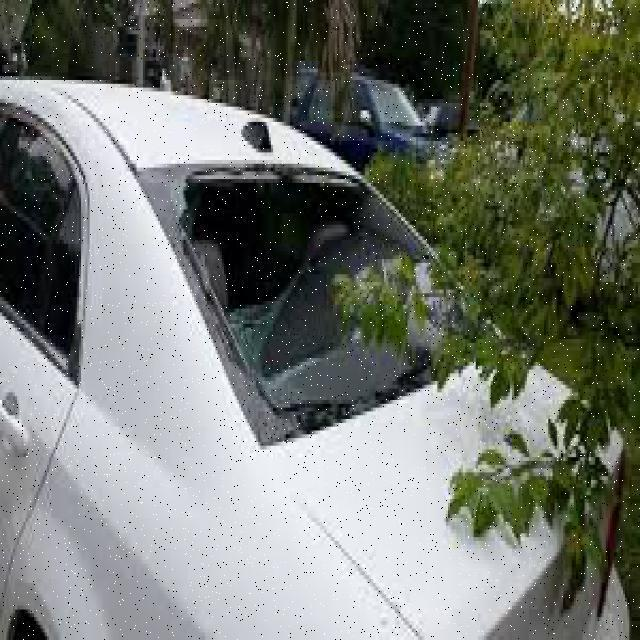Rear-windscreen-Damage: (177, 144, 478, 468)
